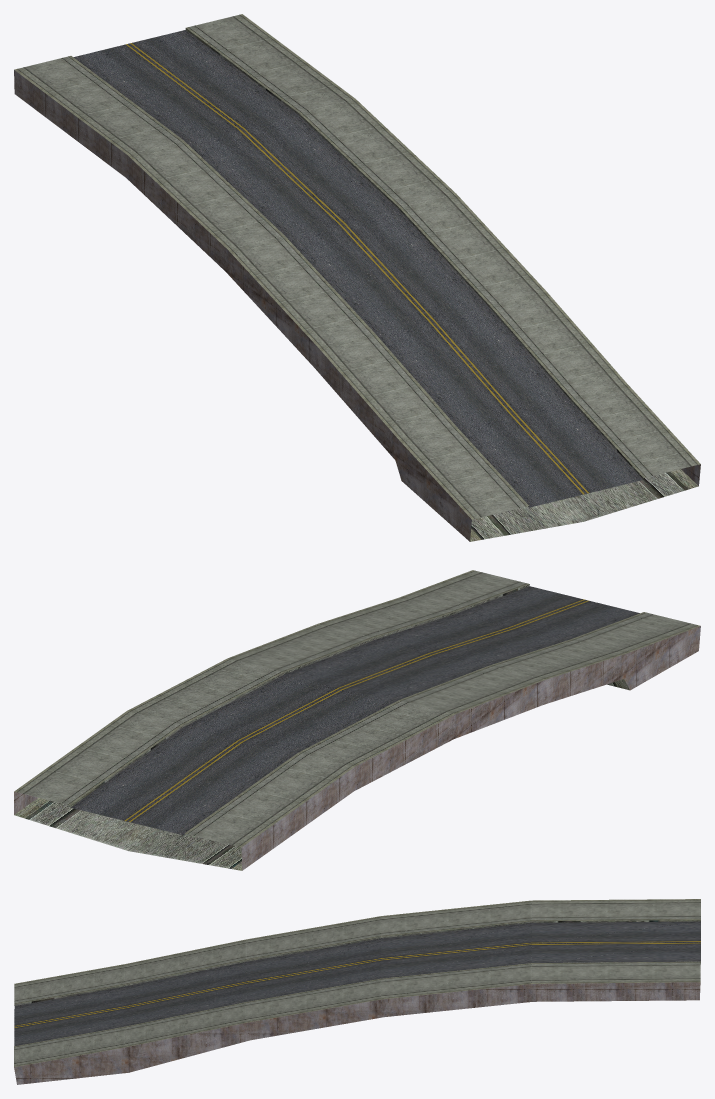
The model's file is lae2_roads18.obj.
The picture shows the model from 3 angles, top to bottom: view 1: azimuth 30°, elevation 25°; view 2: azimuth 150°, elevation 25°; view 3: azimuth 270°, elevation 25°; orthographic projection. The views are drawn at different scales.
Parts seen in each view (by area): view 1: Lae2_roads18; view 2: Lae2_roads18; view 3: Lae2_roads18.
Boxes of the visible parts, bbox=[...] form: Lae2_roads18: bbox=[14, 14, 700, 541]; Lae2_roads18: bbox=[14, 570, 700, 870]; Lae2_roads18: bbox=[14, 899, 700, 1084].
Size of the model in its own units: 20.09 by 12.19 by 69.57.
